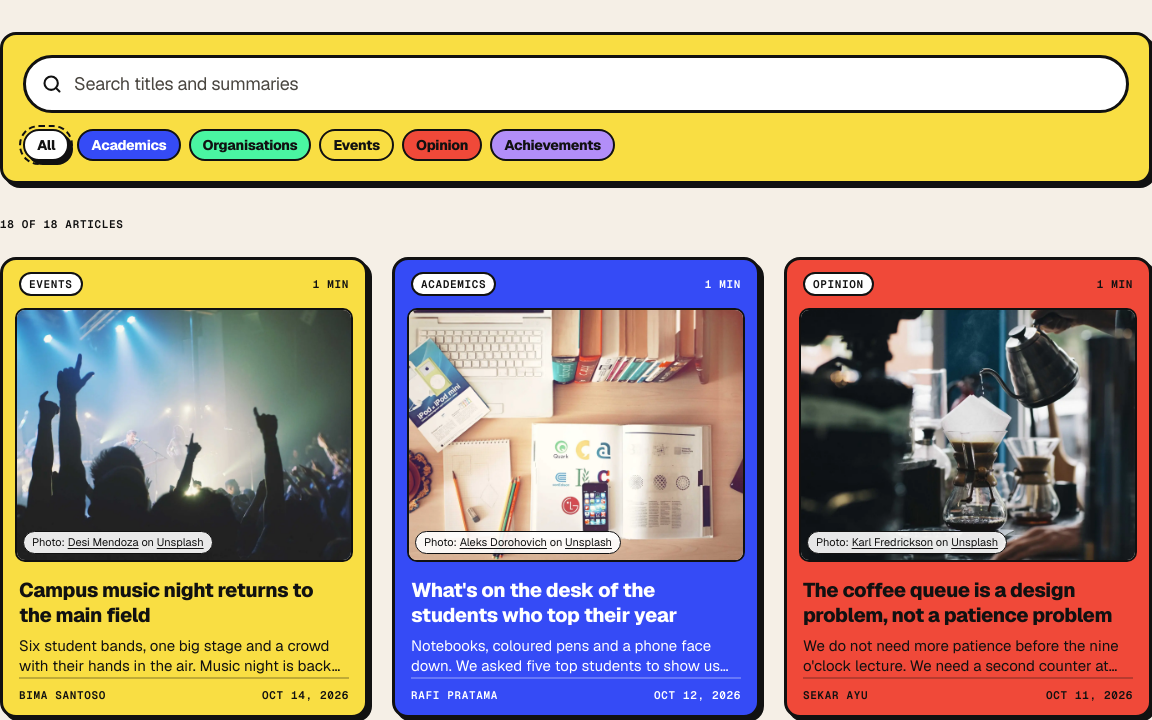
Test: SearchExplorer › fades non-matching cards and hides them from assistive tech
The width and height of the screenshot is (1152, 720).
Type "coffee" into the search field at (592, 84), box left=74, top=70, right=1110, bottom=98
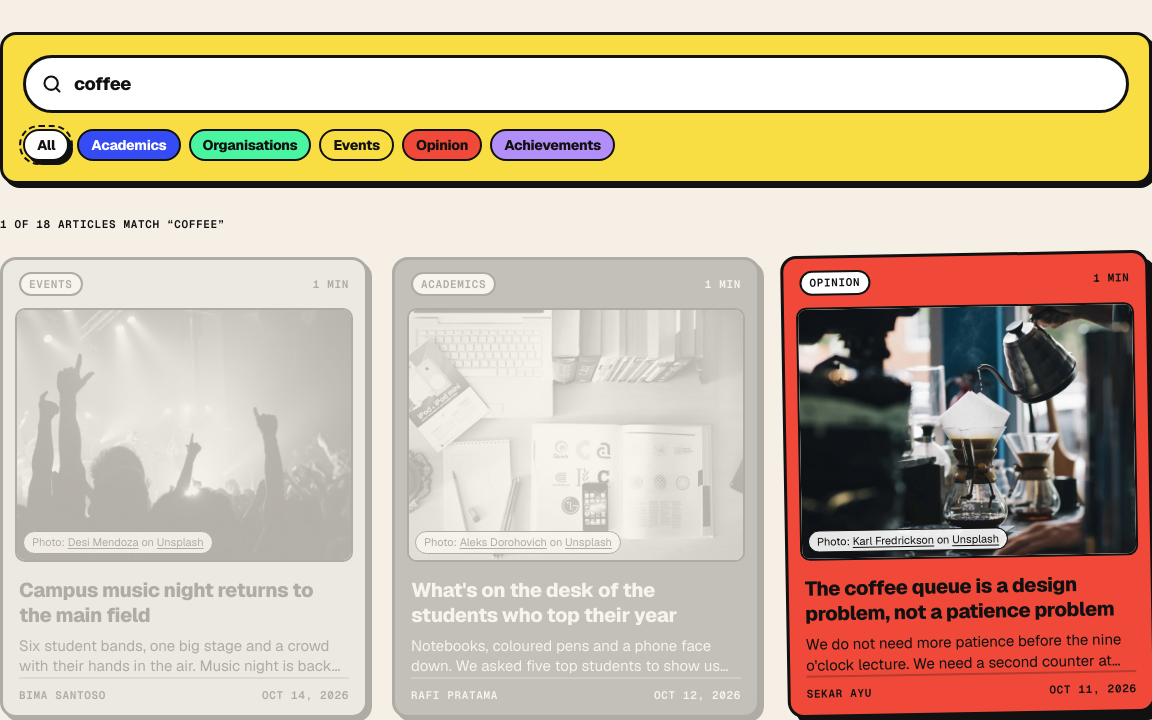
Now the text "1 of 18 articles match “coffee”" is shown, box left=0, top=217, right=225, bottom=231
